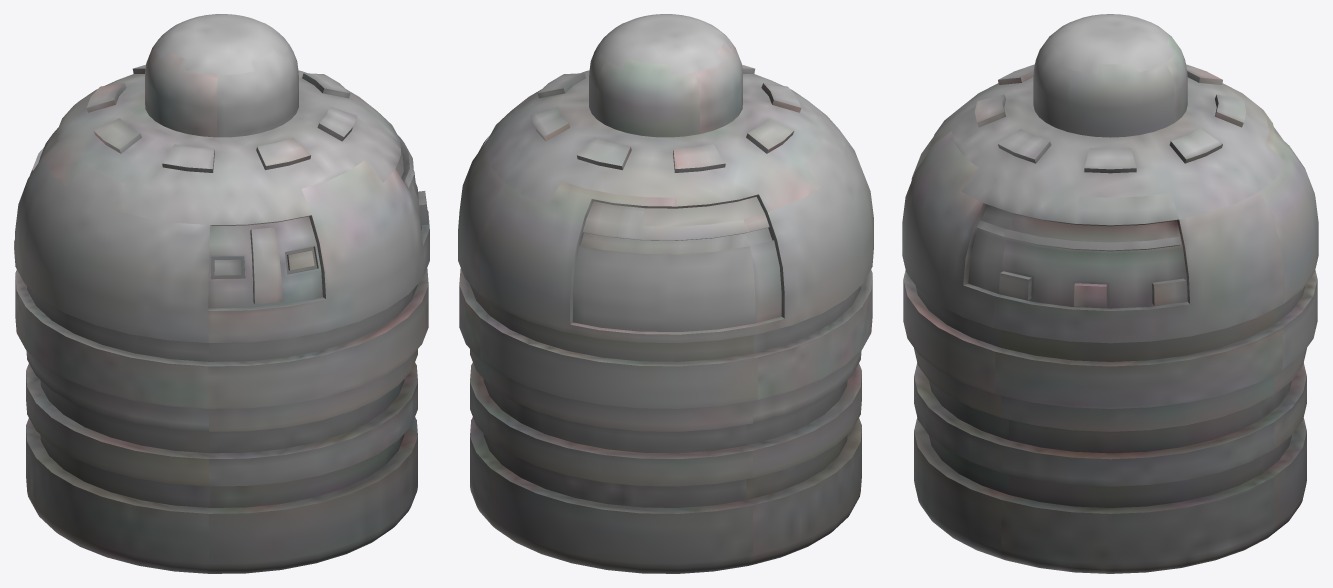
Rendered from SM_crate_03.glb.
The picture shows the model from 3 angles, left to right: view 1: azimuth 30°, elevation 25°; view 2: azimuth 150°, elevation 25°; view 3: azimuth 270°, elevation 25°; orthographic projection.
Visible parts, largest first — view 1: SM_crate_03; view 2: SM_crate_03; view 3: SM_crate_03.
Part boxes in pixels (x1,y1,x2,y2): SM_crate_03: (14, 14, 429, 573); SM_crate_03: (458, 14, 873, 573); SM_crate_03: (902, 14, 1318, 573).
Bounding box in the file's own units: 0.5369 × 0.6645 × 0.5369.
1 material, 1 textured.
